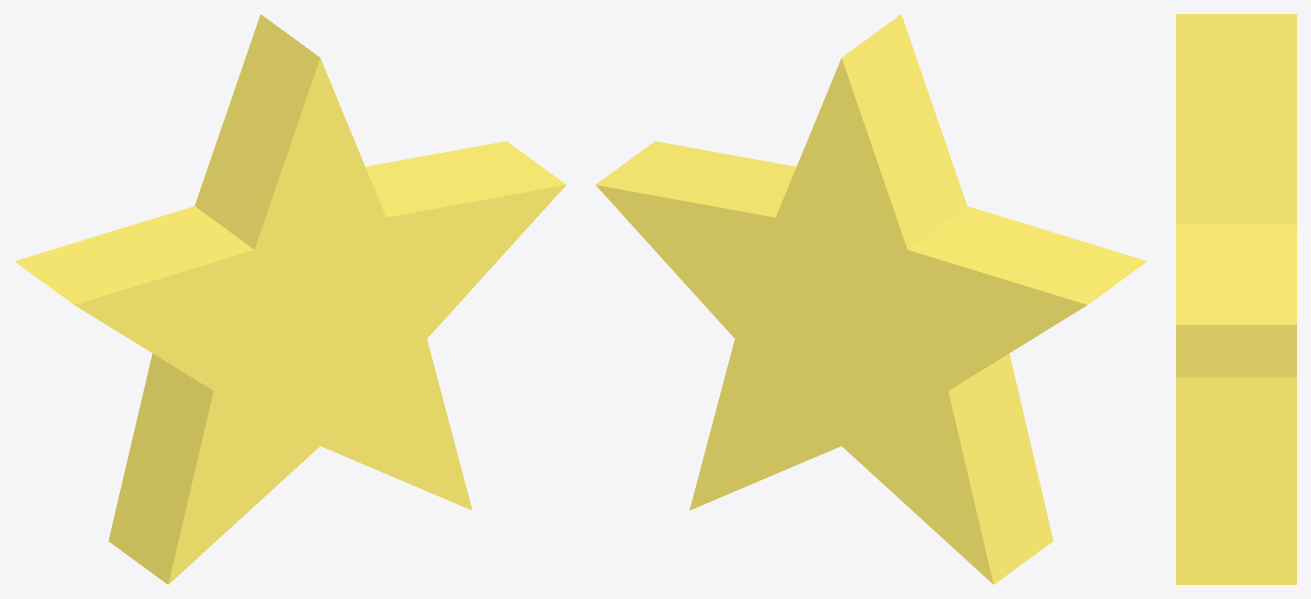
Rendered from star.glb.
The picture shows the model from 3 angles, left to right: view 1: azimuth 30°, elevation 25°; view 2: azimuth 150°, elevation 25°; view 3: azimuth 270°, elevation 25°; orthographic projection.
Visible parts, largest first — view 1: star; view 2: star; view 3: star.
Boxes of the visible parts, <box> form: star: <box>14,14,566,584</box>; star: <box>595,14,1147,584</box>; star: <box>1176,14,1296,584</box>.
Size of the model in its own units: 0.0571 by 0.0543 by 0.012.
